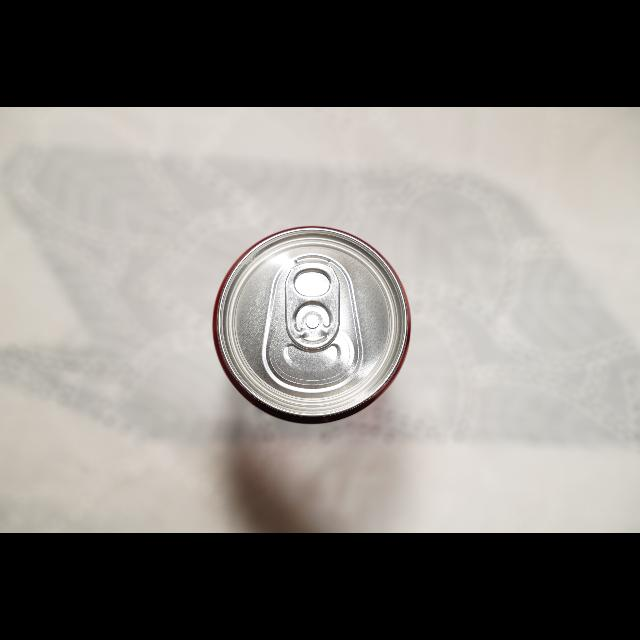coca_cola: (212, 225, 412, 425)
